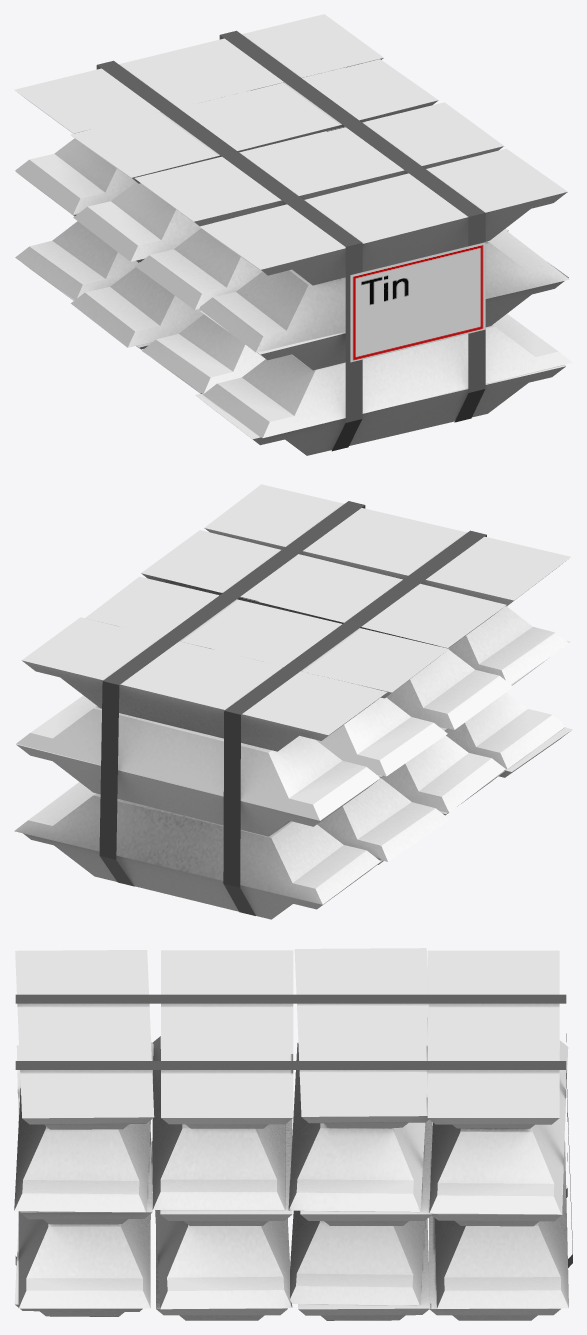
File: tinBlocks_L.fbx
3 renders of one model, top to bottom at view 1: azimuth 30°, elevation 25°; view 2: azimuth 150°, elevation 25°; view 3: azimuth 270°, elevation 25°, orthographic. The views are drawn at different scales.
Parts seen in each view (by area): view 1: tinBlocks_L; view 2: tinBlocks_L; view 3: tinBlocks_L.
Part boxes in pixels (x1,y1,x2,y2): tinBlocks_L: (14,14,572,455); tinBlocks_L: (14,484,572,919); tinBlocks_L: (14,948,572,1320).
Size of the model in its own units: 0.5819 by 0.3754 by 0.7959.
Materials: 1 (1 with a texture image).
